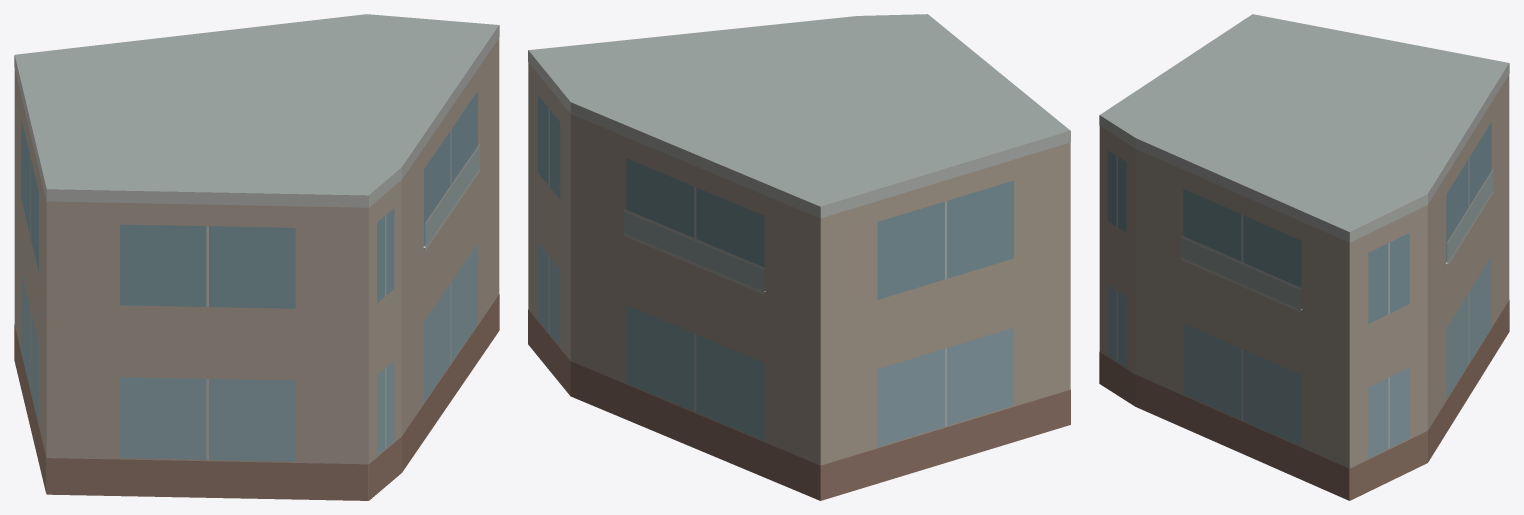
The model's file is survey-upis-32458622.glb.
3 renders of one model, left to right at view 1: azimuth 30°, elevation 25°; view 2: azimuth 150°, elevation 25°; view 3: azimuth 270°, elevation 25°, orthographic. The views are drawn at different scales.
Parts seen in each view (by area): view 1: survey-upis-32458622.tmp; view 2: survey-upis-32458622.tmp; view 3: survey-upis-32458622.tmp.
Boxes of the visible parts, x1,y1,x2,y2 form: survey-upis-32458622.tmp: (14,14,499,500); survey-upis-32458622.tmp: (528,14,1070,500); survey-upis-32458622.tmp: (1099,14,1509,500).
Bounding box in the file's own units: 10.63 × 6.1 × 8.44.
